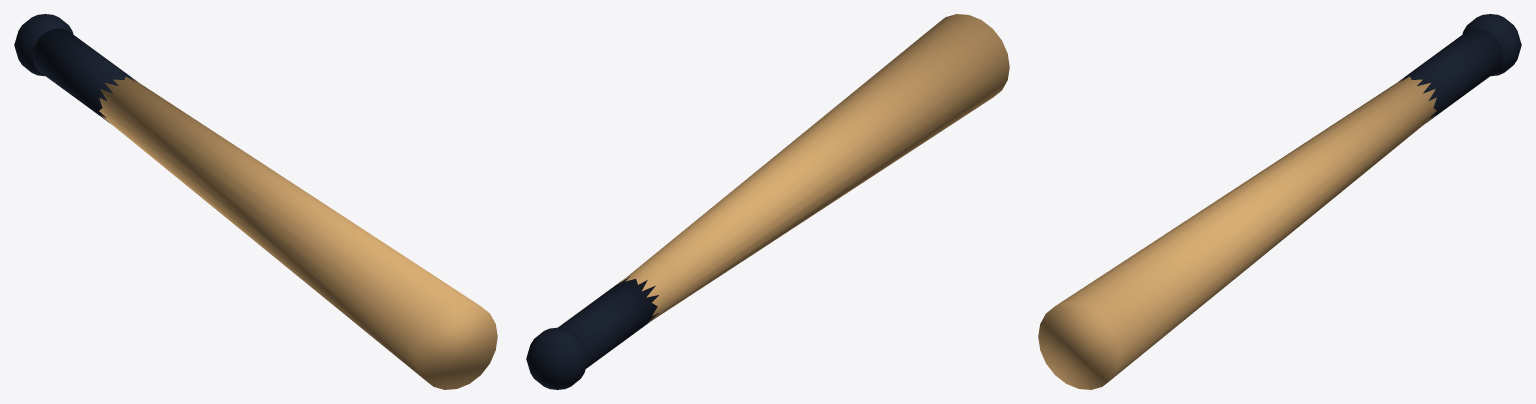
Rendered from bat.glb.
3 views of the same model, side by side, from view 1: azimuth 30°, elevation 25°; view 2: azimuth 150°, elevation 25°; view 3: azimuth 330°, elevation 25° (orthographic).
Parts seen in each view (by area): view 1: Body, Tape, Knob; view 2: Body, Tape, Knob; view 3: Body, Tape, Knob.
Part boxes in pixels (box(x1,y1,x2,y2)): Body: box(99, 76, 497, 389); Tape: box(32, 28, 135, 122); Knob: box(14, 14, 73, 76); Body: box(618, 14, 1009, 322); Tape: box(558, 276, 658, 368); Knob: box(526, 327, 588, 389); Body: box(1038, 76, 1436, 389); Tape: box(1400, 28, 1503, 122); Knob: box(1462, 14, 1521, 76).
Size of the model in its own units: 0.09 by 0.09 by 0.82.
